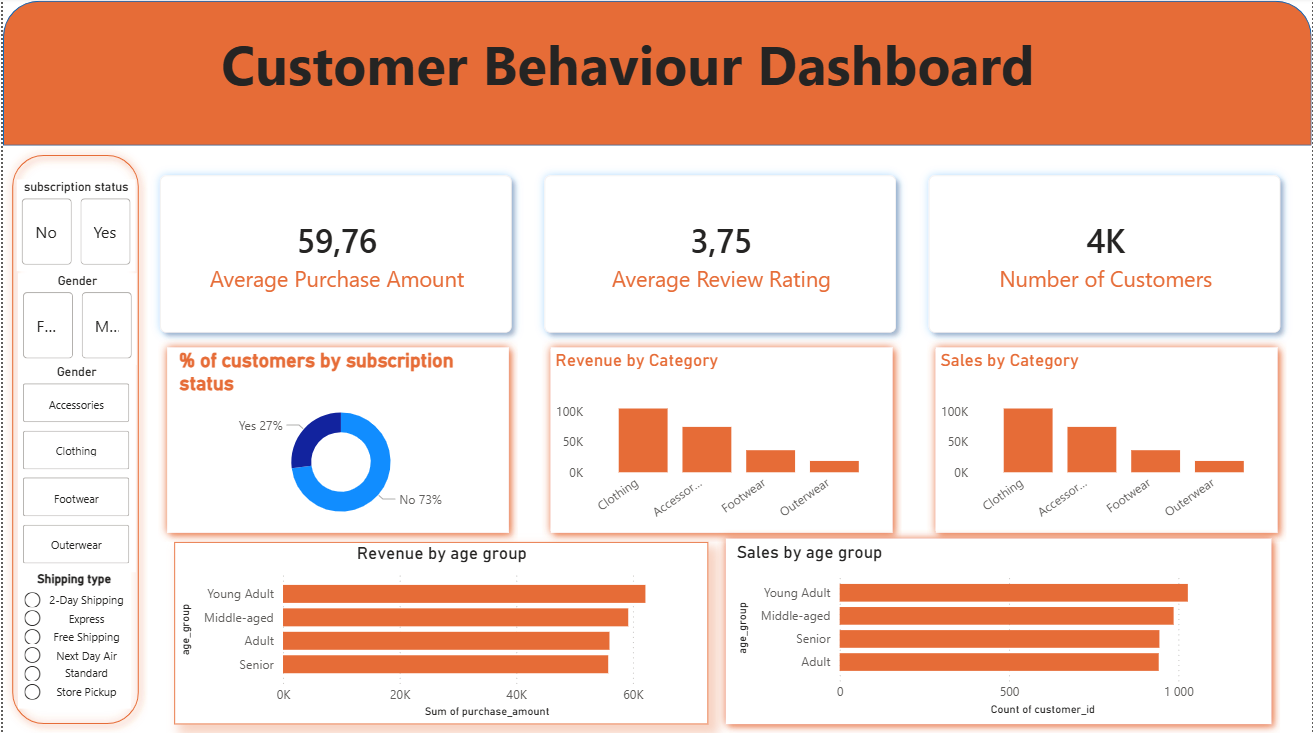

This screenshot's page, from the dashboard's own definition file:
{"tool":"powerbi","page":{"name":"Page 1","canvas":[1280,720],"ordinal":0},"visuals":[{"type":"cardVisual","fields":{"Data":["public customer.Average Purchase Amount","public customer.Average Review Rating","public customer.Number of Customers"]},"box":[124.7,145.5,1155.6,212.8],"z":0},{"type":"shape","box":[0,3.7,1280.3,141.8],"z":1000},{"type":"textbox","box":[167.5,23.2,887.8,107.6],"z":2000},{"type":"shape","box":[151.6,333.8,352.2,199.3],"z":3000},{"type":"donutChart","title":"% of customers by subscription status","fields":{"Category":["public customer.subscription_status"],"Y":["CountNonNull(public customer.customer_id)"]},"box":[167.5,344.6,326.5,177.3],"z":4000},{"type":"shape","box":[527,333.8,352.2,199.3],"z":5000},{"type":"shape","box":[903.7,333.8,352.2,199.3],"z":6000},{"type":"clusteredColumnChart","title":"Revenue by Category","fields":{"Y":["Sum(public customer.purchase_amount)"],"Category":["public customer.category"]},"box":[535.6,344.8,333.8,177.3],"z":7000},{"type":"clusteredColumnChart","title":"Sales by Category","fields":{"Y":["Sum(public customer.purchase_amount)"],"Category":["public customer.category"]},"box":[912.2,344.8,333.8,177.3],"z":8000},{"type":"shape","box":[0,145.5,141.8,574.7],"z":9000},{"type":"advancedSlicerVisual","title":"subscription status","fields":{"Values":["public customer.subscription_status"]},"box":[13.5,178.5,116.2,89.3],"z":10000},{"type":"advancedSlicerVisual","title":"Gender","fields":{"Values":["public customer.gender"]},"box":[14.7,270.2,116.2,89.3],"z":11000},{"type":"advancedSlicerVisual","title":"Gender","fields":{"Values":["public customer.category"]},"box":[14.7,359.5,114.9,203],"z":12000},{"type":"listSlicer","title":"Shipping type","fields":{"Values":["public customer.shipping_type"]},"box":[14.7,562.5,110.1,133.3],"z":12001},{"type":"clusteredBarChart","title":"Revenue by age group","fields":{"Y":["Sum(public customer.purchase_amount)"],"Category":["public customer.age_group"]},"box":[167.5,533.2,522.1,178.5],"z":12002},{"type":"shape","box":[698.2,520.9,551.5,199.3],"z":12004},{"type":"clusteredBarChart","title":"Sales by age group","fields":{"Y":["CountNonNull(public customer.customer_id)"],"Category":["public customer.age_group"]},"box":[712.9,533.2,523.4,174.9],"z":12005}]}

Visuals, with their boxes in screenshot pixels (x1, y1, x2, y2), scaled from the page's 1280x720 canvas onto the 1313x733 screenshot:
cardVisual - public customer.Average Purchase Amount x public customer.Average Review Rating: left=128, top=148, right=1312, bottom=365
shape: left=0, top=4, right=1312, bottom=148
textbox: left=172, top=24, right=1083, bottom=133
shape: left=156, top=340, right=517, bottom=543
"% of customers by subscription status" donutChart: left=172, top=351, right=507, bottom=531
shape: left=541, top=340, right=902, bottom=543
shape: left=927, top=340, right=1288, bottom=543
"Revenue by Category" clusteredColumnChart: left=549, top=351, right=892, bottom=532
"Sales by Category" clusteredColumnChart: left=936, top=351, right=1278, bottom=532
shape: left=0, top=148, right=145, bottom=732
"subscription status" advancedSlicerVisual: left=14, top=182, right=133, bottom=273
"Gender" advancedSlicerVisual: left=15, top=275, right=134, bottom=366
"Gender" advancedSlicerVisual: left=15, top=366, right=133, bottom=573
"Shipping type" listSlicer: left=15, top=573, right=128, bottom=708
"Revenue by age group" clusteredBarChart: left=172, top=543, right=707, bottom=725
shape: left=716, top=530, right=1282, bottom=732
"Sales by age group" clusteredBarChart: left=731, top=543, right=1268, bottom=721
